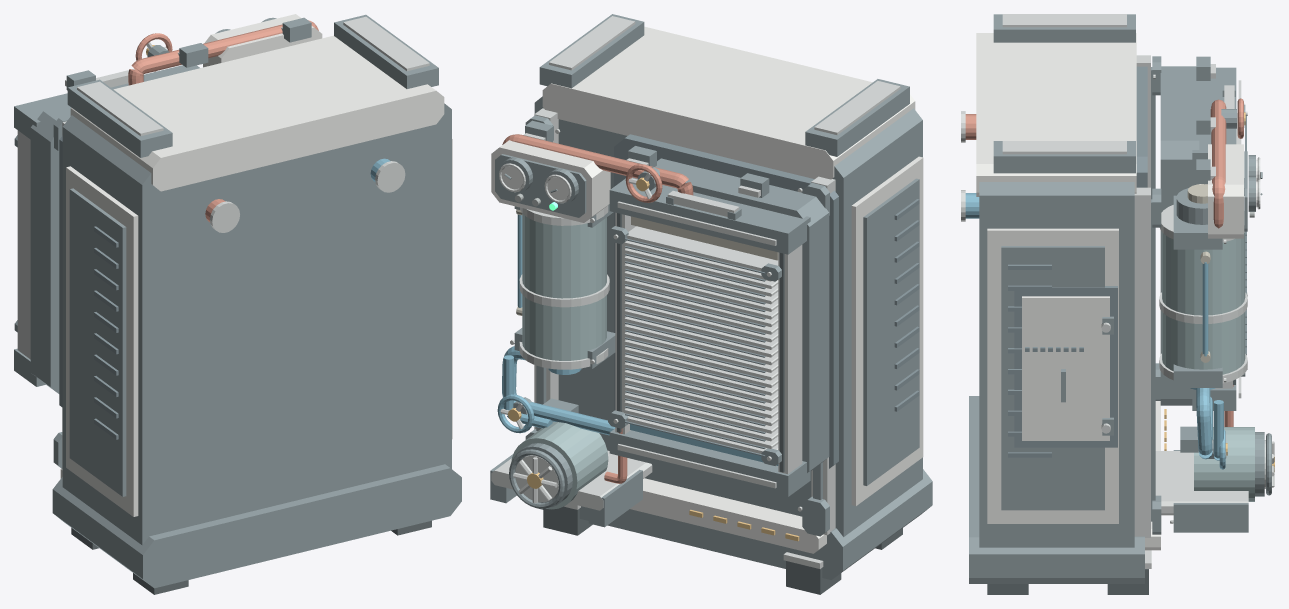
The model's file is thermal_control_unit_martian_hailmary.glb.
The picture shows the model from 3 angles, left to right: view 1: azimuth 30°, elevation 25°; view 2: azimuth 150°, elevation 25°; view 3: azimuth 270°, elevation 25°; orthographic projection. The views are drawn at different scales.
Visible parts, largest first — view 1: static__frame, static__shell, static__trim, static__recess, static__hot, static__rubber; view 2: static__frame, static__trim, static__shell, static__recess, static__darkblue, static__rubber, static__cold, static__hot, static__copper, exchanger_cartridge__trim, static__ceramic, pump_rotor__trim (+2 smaller); view 3: static__frame, static__shell, static__trim, static__darkblue, static__recess, static__cold, static__hot, static__rubber, static__copper.
Part boxes in pixels (bbox=[...]): static__frame: bbox=[14, 14, 461, 588]; static__shell: bbox=[60, 14, 452, 516]; static__trim: bbox=[17, 16, 429, 472]; static__recess: bbox=[59, 136, 118, 439]; static__hot: bbox=[128, 20, 318, 222]; static__rubber: bbox=[71, 520, 431, 594]; static__frame: bbox=[490, 14, 932, 579]; static__trim: bbox=[491, 16, 900, 568]; static__shell: bbox=[491, 26, 923, 553]; static__recess: bbox=[614, 134, 919, 468]; static__darkblue: bbox=[511, 214, 608, 509]; static__rubber: bbox=[543, 213, 902, 594]; static__cold: bbox=[502, 214, 778, 465]; static__hot: bbox=[502, 134, 693, 483]; static__copper: bbox=[516, 209, 778, 315]; exchanger_cartridge__trim: bbox=[667, 190, 739, 216]; static__ceramic: bbox=[501, 166, 568, 200]; pump_rotor__trim: bbox=[513, 457, 557, 503]; static__frame: bbox=[969, 14, 1271, 583]; static__shell: bbox=[976, 33, 1243, 550]; static__trim: bbox=[961, 14, 1265, 568]; static__darkblue: bbox=[1162, 232, 1254, 501]; static__recess: bbox=[1008, 66, 1246, 457]; static__cold: bbox=[965, 193, 1223, 460]; static__hot: bbox=[965, 99, 1233, 426]; static__rubber: bbox=[987, 379, 1235, 594]; static__copper: bbox=[1187, 184, 1210, 362].
Bounding box in the file's own units: 1.49 × 1.9 × 1.21.
